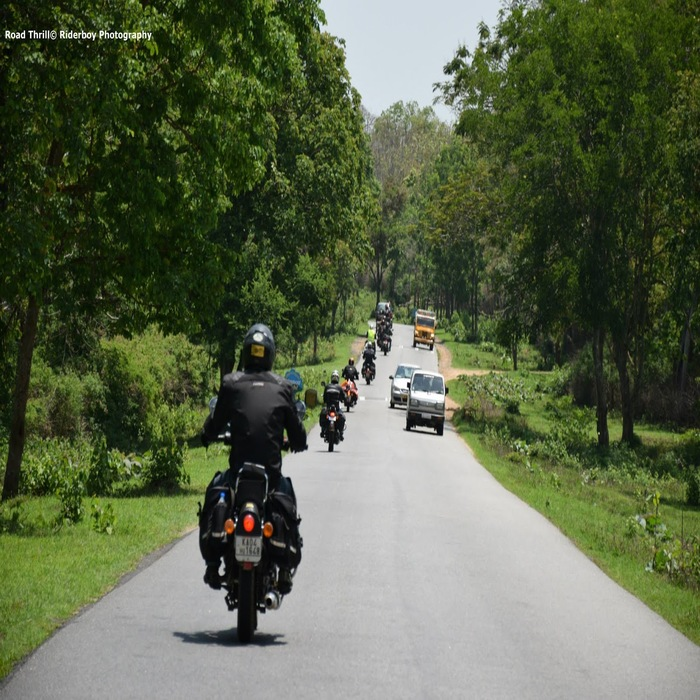h: (241, 322, 278, 374), (328, 368, 341, 387)
n: (233, 533, 264, 564), (419, 411, 434, 420)
